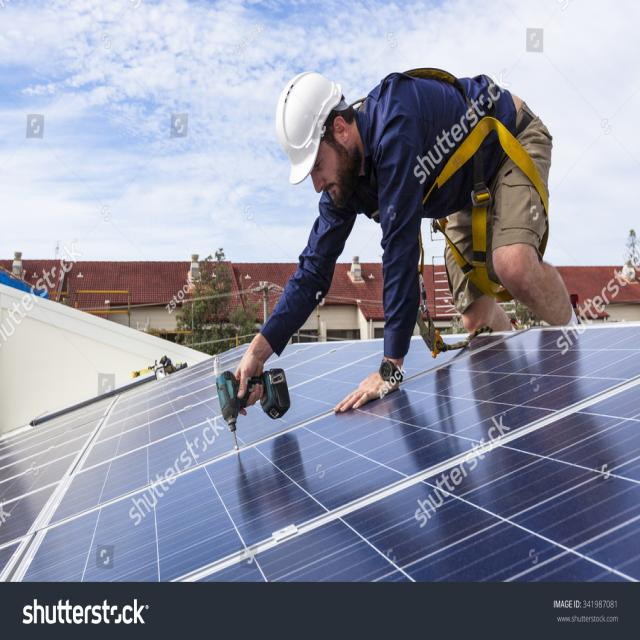clean-solar-panel: (1, 324, 640, 639)
